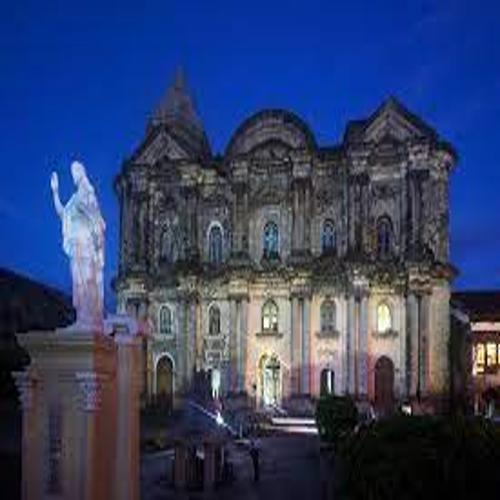Taal Basilica Church: (100, 55, 459, 432)
